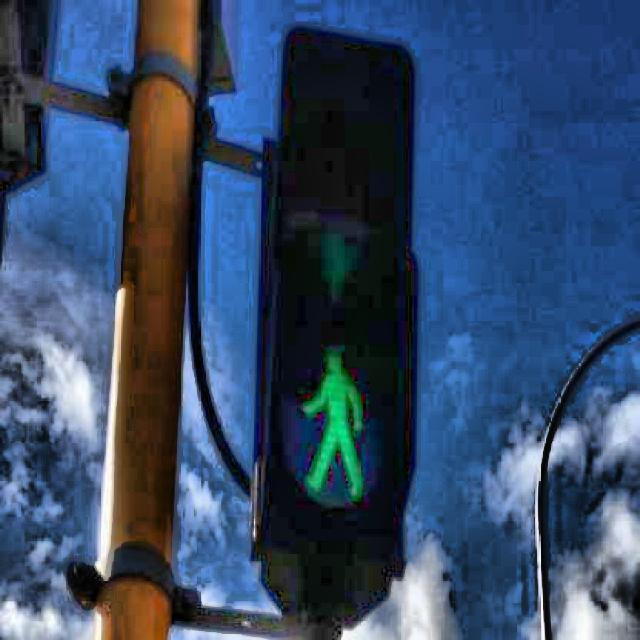semaforo pedestre: (188, 7, 467, 616)
